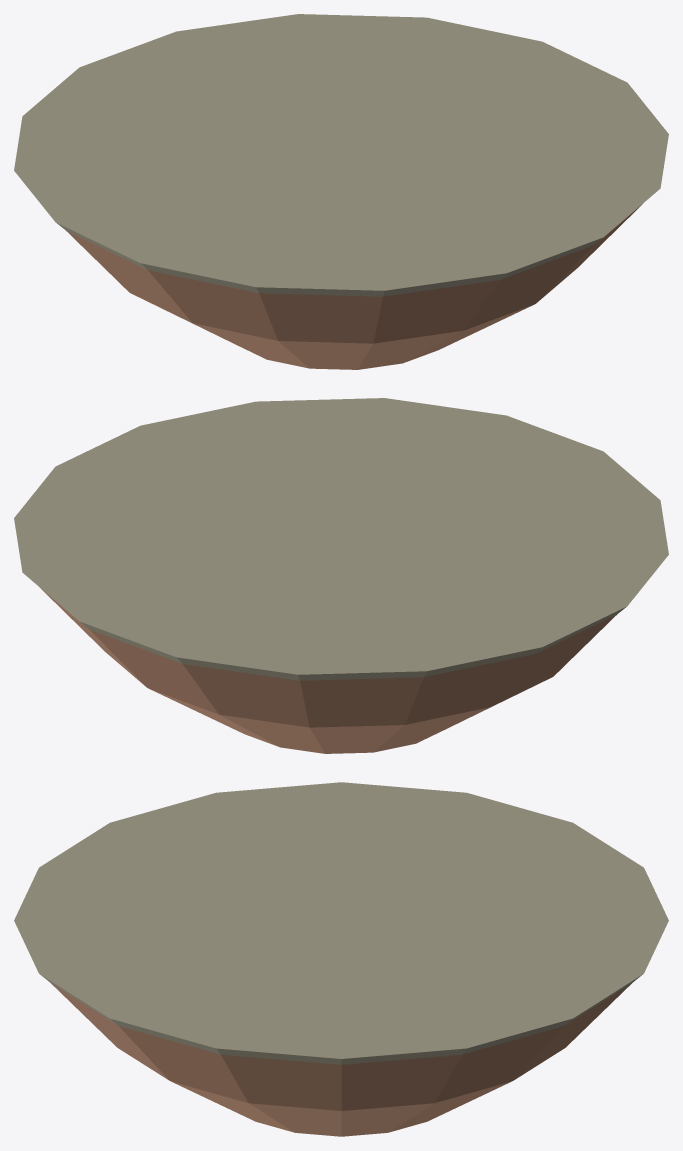
File: pottery_bowl.glb
3 renders of one model, top to bottom at view 1: azimuth 30°, elevation 25°; view 2: azimuth 150°, elevation 25°; view 3: azimuth 270°, elevation 25°, orthographic.
Parts seen in each view (by area): view 1: pottery_bowl; view 2: pottery_bowl; view 3: pottery_bowl.
Part boxes in pixels (x1,y1,x2,y2): pottery_bowl: [14, 14, 668, 369]; pottery_bowl: [14, 398, 668, 753]; pottery_bowl: [14, 782, 668, 1136].
Size of the model in its own units: 0.27 by 0.075 by 0.27.
